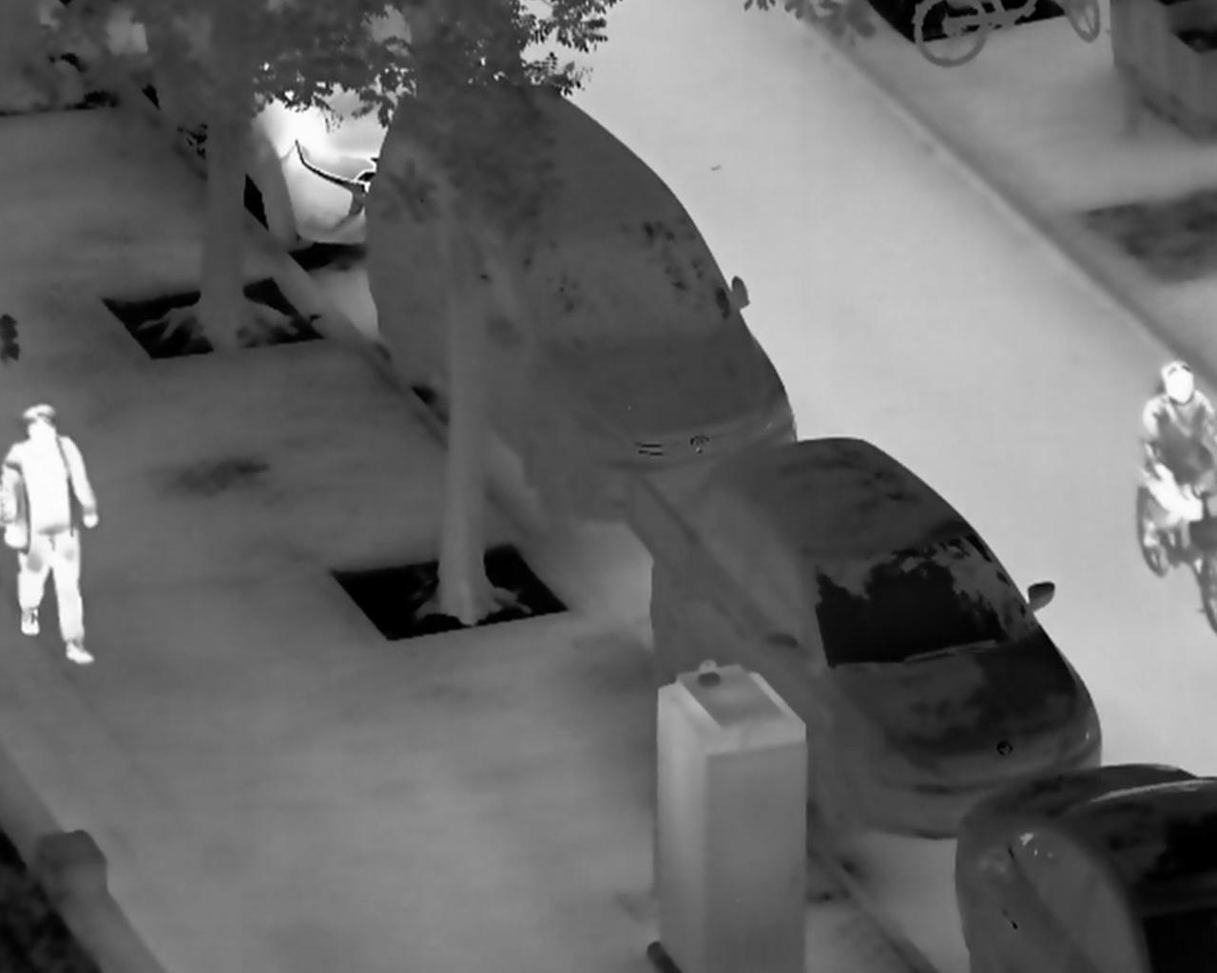person: (2, 398, 102, 666), (1135, 356, 1216, 564)
